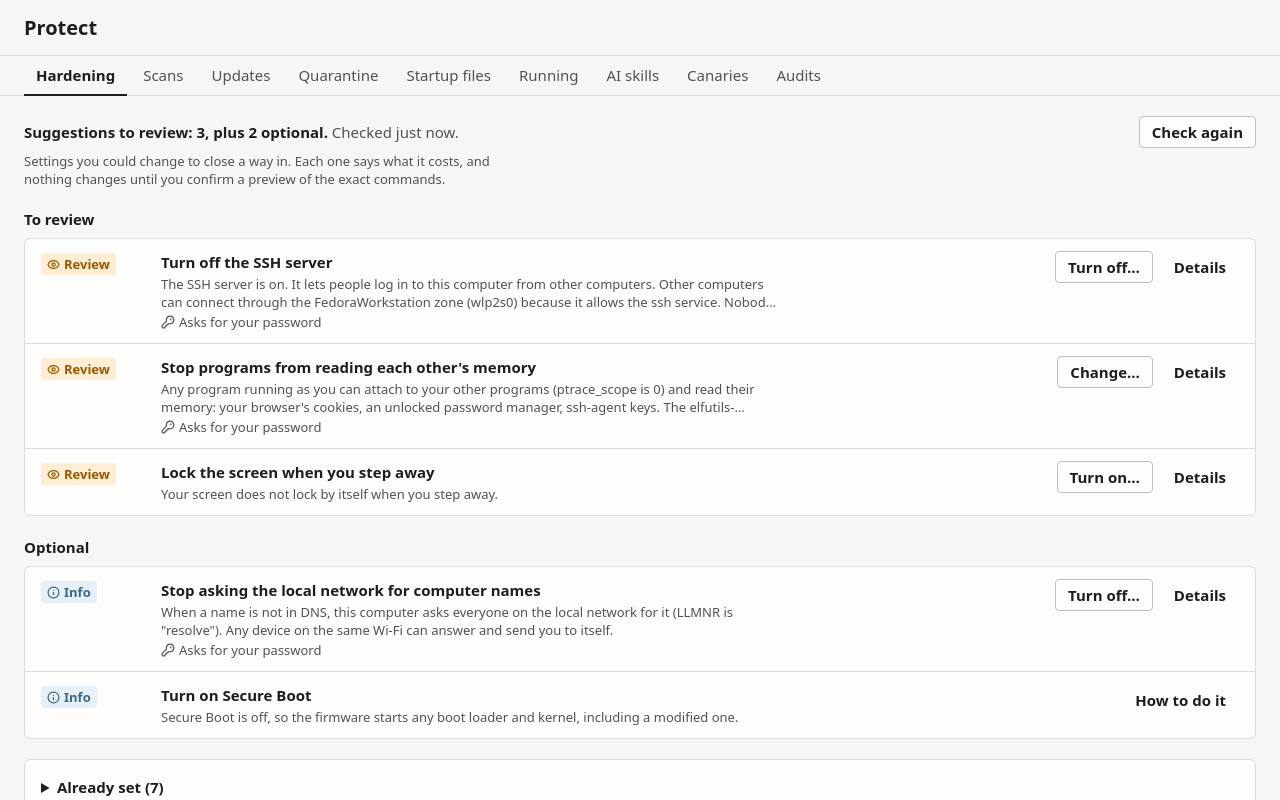
Scenario: Hardening › lists a change Bigman made with an Undo that previews first
Step 1. Click the button "Change…" → click(1105, 372), box [1057,356,1153,388]
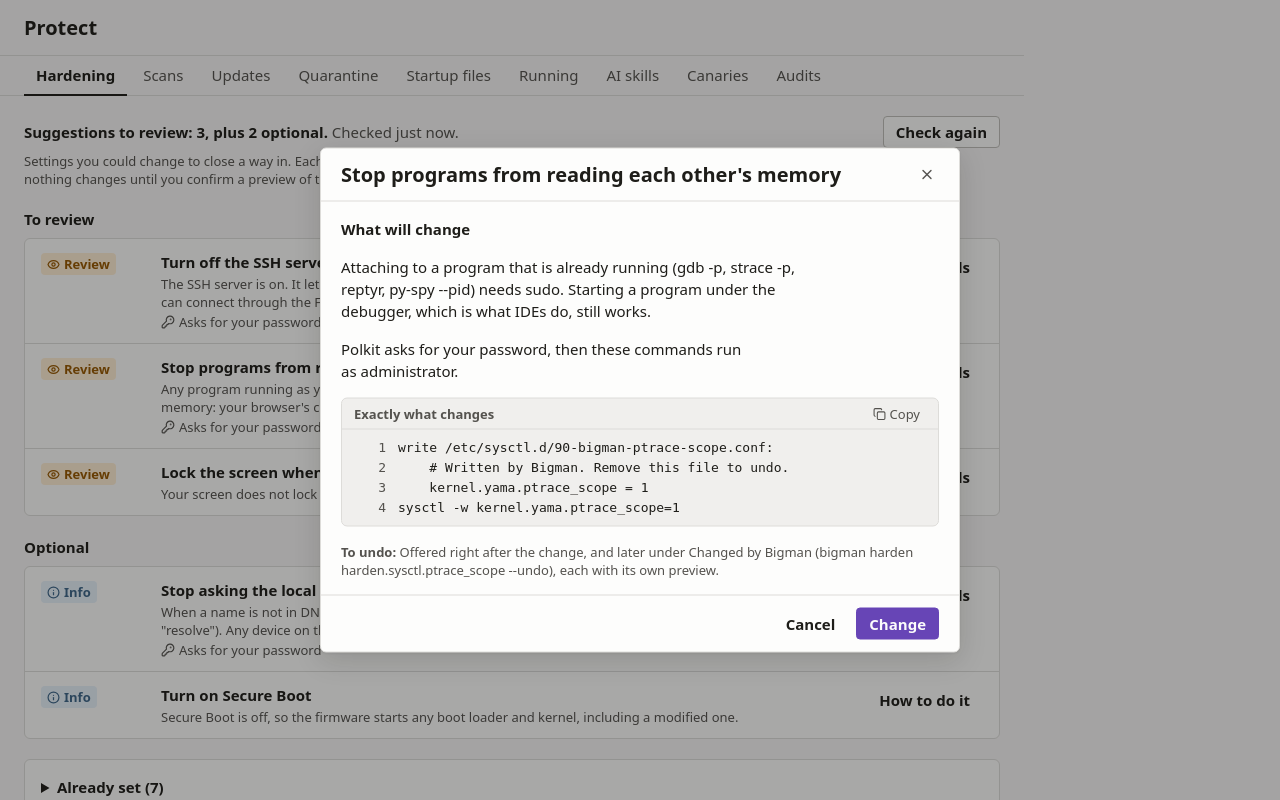
Step 2. Click the button "Change" → click(898, 624), box [856,608,939,640]
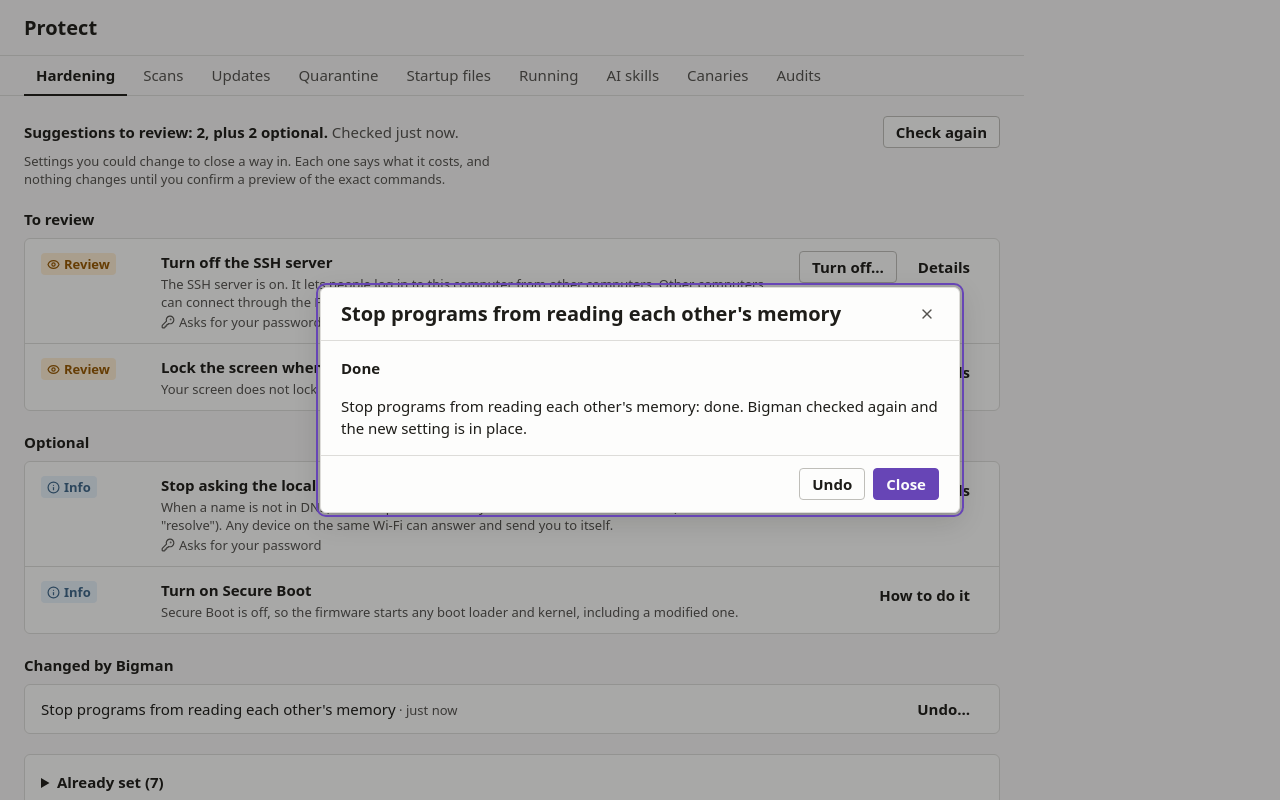
Expected: the text "done." is shown, [341,396,938,438]
Step 3. Press Escape
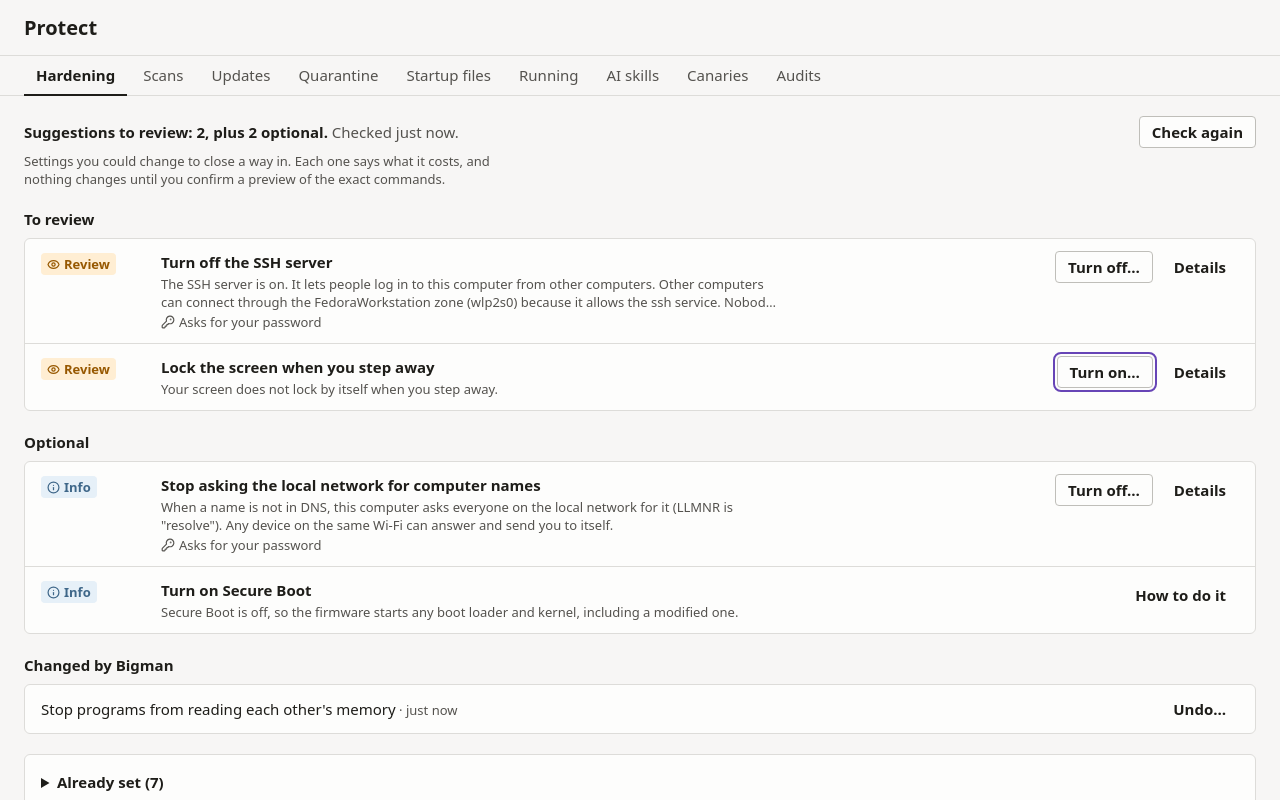
Step 4. Click the button "Undo…" → click(1200, 709), box [1160,693,1239,725]
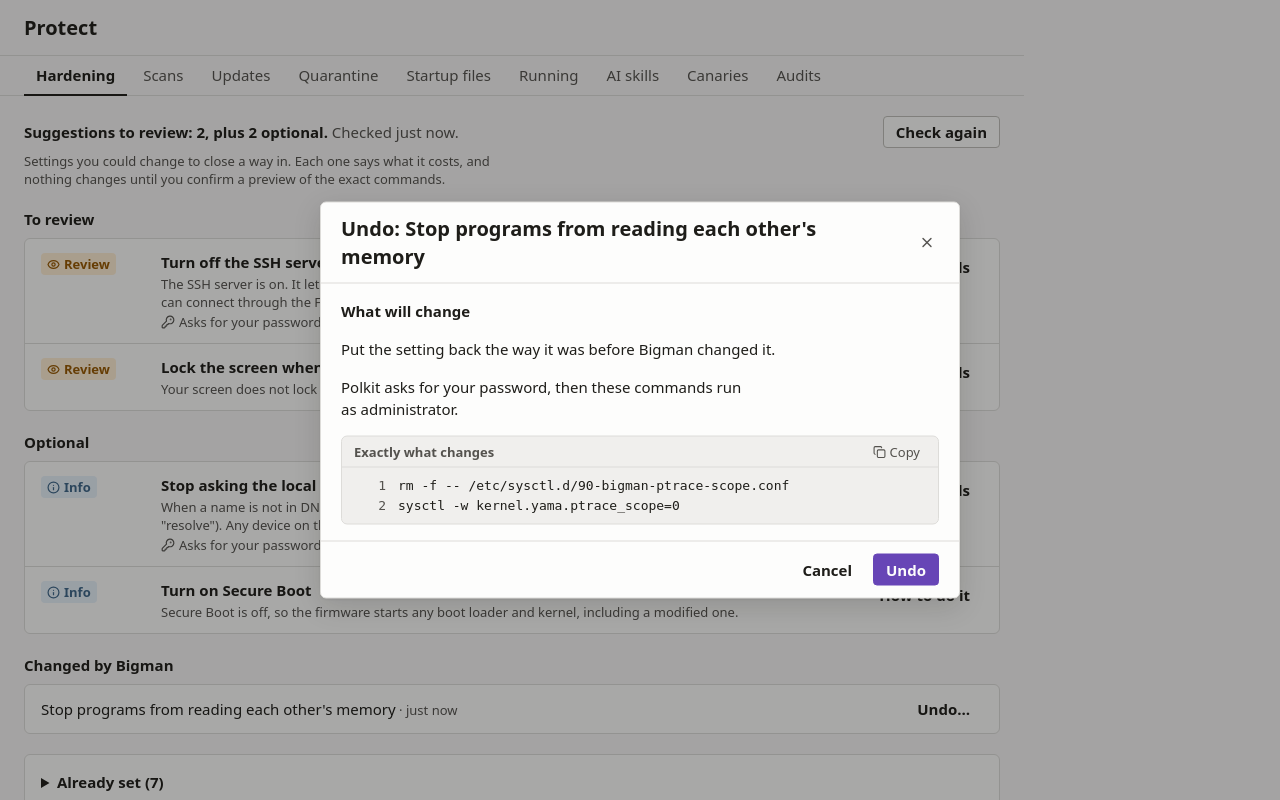
Expected: the text "rm -f -- /etc/sysctl.d/90-bigman-ptrace-scope.conf" is shown, [398,478,789,492]
